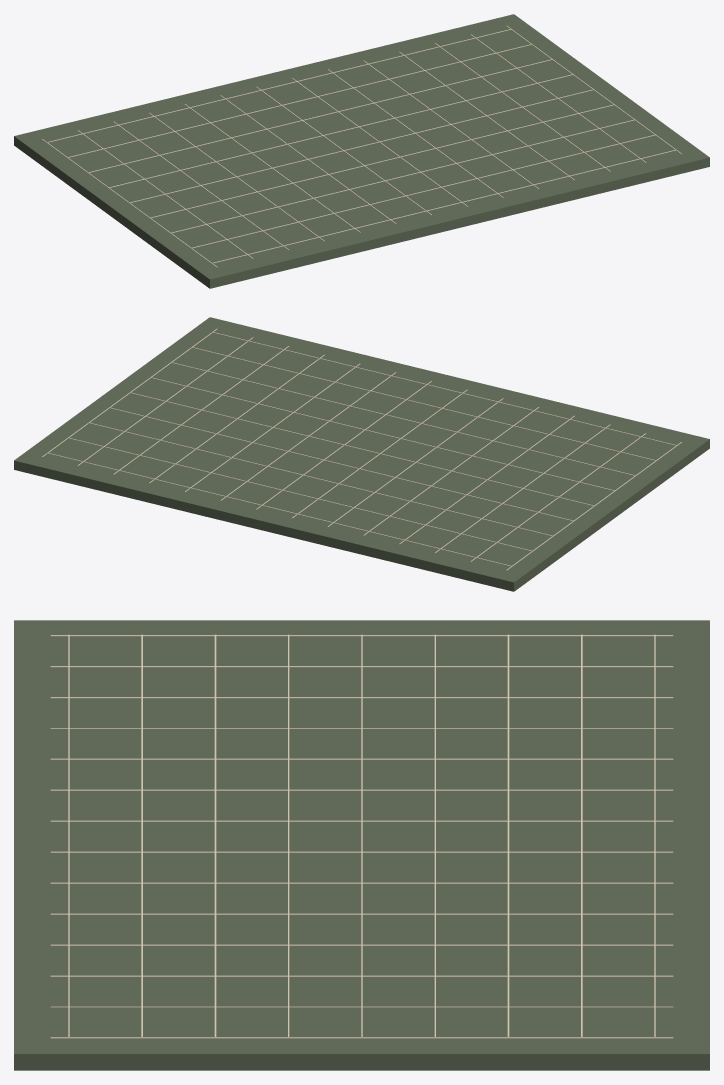
The model's file is cutting-mat.glb.
3 views of the same model, one above another, from view 1: azimuth 30°, elevation 25°; view 2: azimuth 150°, elevation 25°; view 3: azimuth 270°, elevation 25° (orthographic). The views are drawn at different scales.
Visible parts, largest first — view 1: mat-base, mat-grid-z-6, mat-grid-z-5, mat-grid-z-7, mat-grid-z-8, mat-grid-z-0, mat-grid-z-1, mat-grid-z-2, mat-grid-z-3, mat-grid-z-4; view 2: mat-base, mat-grid-z-2, mat-grid-z-0, mat-grid-z-1, mat-grid-z-3, mat-grid-z-4, mat-grid-z-5, mat-grid-z-6, mat-grid-z-7, mat-grid-z-8; view 3: mat-base, mat-grid-x-13, mat-grid-x-0, mat-grid-x-1, mat-grid-x-2, mat-grid-x-4, mat-grid-x-5, mat-grid-x-6, mat-grid-x-7, mat-grid-x-8, mat-grid-x-9, mat-grid-x-10 (+11 smaller).
Boxes of the visible parts, box(x1,y1,x2,y2) form: mat-base: box(14, 14, 709, 288); mat-grid-z-6: box(171, 119, 635, 233); mat-grid-z-5: box(150, 104, 614, 218); mat-grid-z-7: box(191, 134, 655, 248); mat-grid-z-8: box(212, 149, 676, 263); mat-grid-z-0: box(47, 29, 511, 142); mat-grid-z-1: box(68, 44, 532, 157); mat-grid-z-2: box(88, 59, 552, 172); mat-grid-z-3: box(109, 74, 573, 187); mat-grid-z-4: box(130, 89, 594, 202); mat-base: box(14, 317, 709, 591); mat-grid-z-2: box(88, 422, 552, 536); mat-grid-z-0: box(47, 452, 511, 566); mat-grid-z-1: box(68, 437, 532, 551); mat-grid-z-3: box(109, 407, 573, 521); mat-grid-z-4: box(129, 392, 593, 505); mat-grid-z-5: box(150, 377, 614, 490); mat-grid-z-6: box(171, 362, 635, 475); mat-grid-z-7: box(191, 347, 655, 460); mat-grid-z-8: box(212, 332, 676, 445); mat-base: box(14, 620, 709, 1070); mat-grid-x-13: box(50, 1037, 673, 1038); mat-grid-x-0: box(50, 635, 673, 636); mat-grid-x-1: box(50, 666, 673, 667); mat-grid-x-2: box(50, 697, 673, 698); mat-grid-x-4: box(50, 758, 673, 759); mat-grid-x-5: box(50, 789, 673, 790); mat-grid-x-6: box(50, 820, 673, 821); mat-grid-x-7: box(50, 851, 673, 852); mat-grid-x-8: box(50, 882, 673, 883); mat-grid-x-9: box(50, 913, 673, 914); mat-grid-x-10: box(50, 944, 673, 945).
Size of the model in its own units: 1.4 by 0.027 by 0.95.
